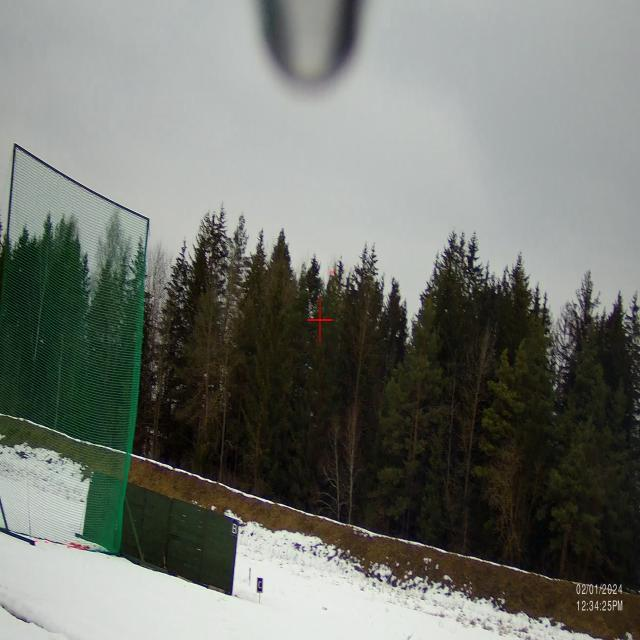entire: (328, 266, 336, 276)
